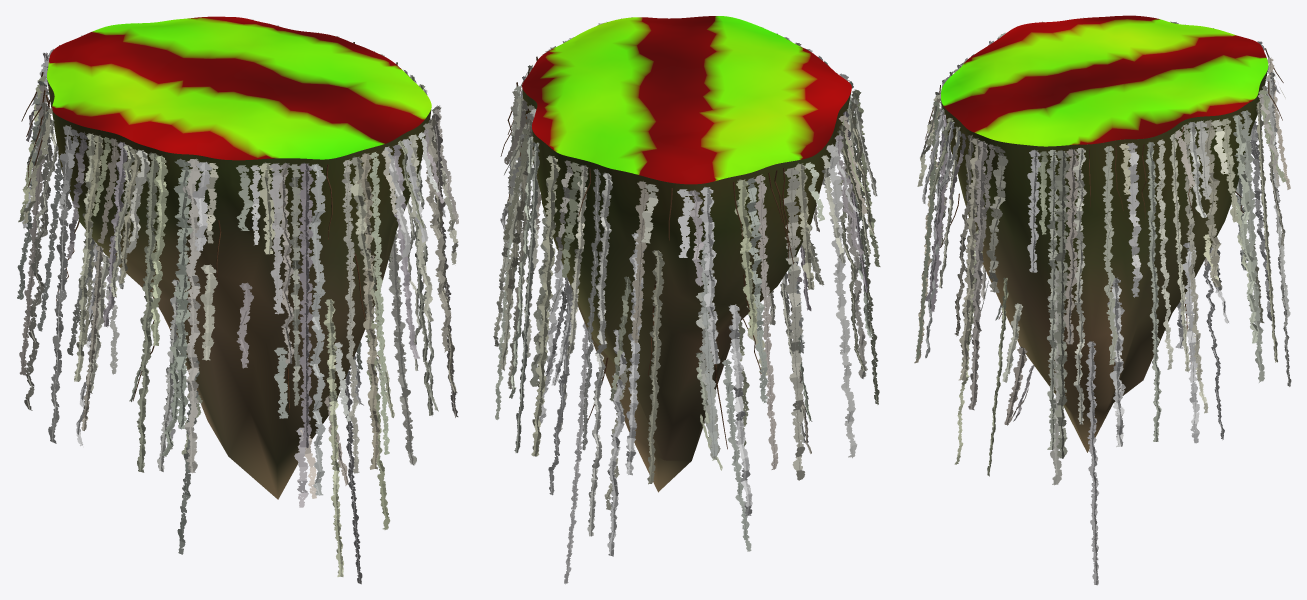
Rendered from SM_H15_Floater04.fbx.
The picture shows the model from 3 angles, left to right: view 1: azimuth 30°, elevation 25°; view 2: azimuth 150°, elevation 25°; view 3: azimuth 270°, elevation 25°; orthographic projection. The views are drawn at different scales.
Parts seen in each view (by area): view 1: SM_H15_Floater04, SM_H15_Floater04_Ivy; view 2: SM_H15_Floater04, SM_H15_Floater04_Ivy; view 3: SM_H15_Floater04, SM_H15_Floater04_Ivy.
Boxes of the visible parts, box(x1,y1,x2,y2) form: SM_H15_Floater04: box(47, 16, 431, 499); SM_H15_Floater04_Ivy: box(17, 19, 458, 584); SM_H15_Floater04: box(522, 16, 851, 492); SM_H15_Floater04_Ivy: box(493, 17, 880, 584); SM_H15_Floater04: box(941, 15, 1268, 452); SM_H15_Floater04_Ivy: box(914, 17, 1291, 585).
Size of the model in its own units: 30.55 by 43.14 by 32.09.
